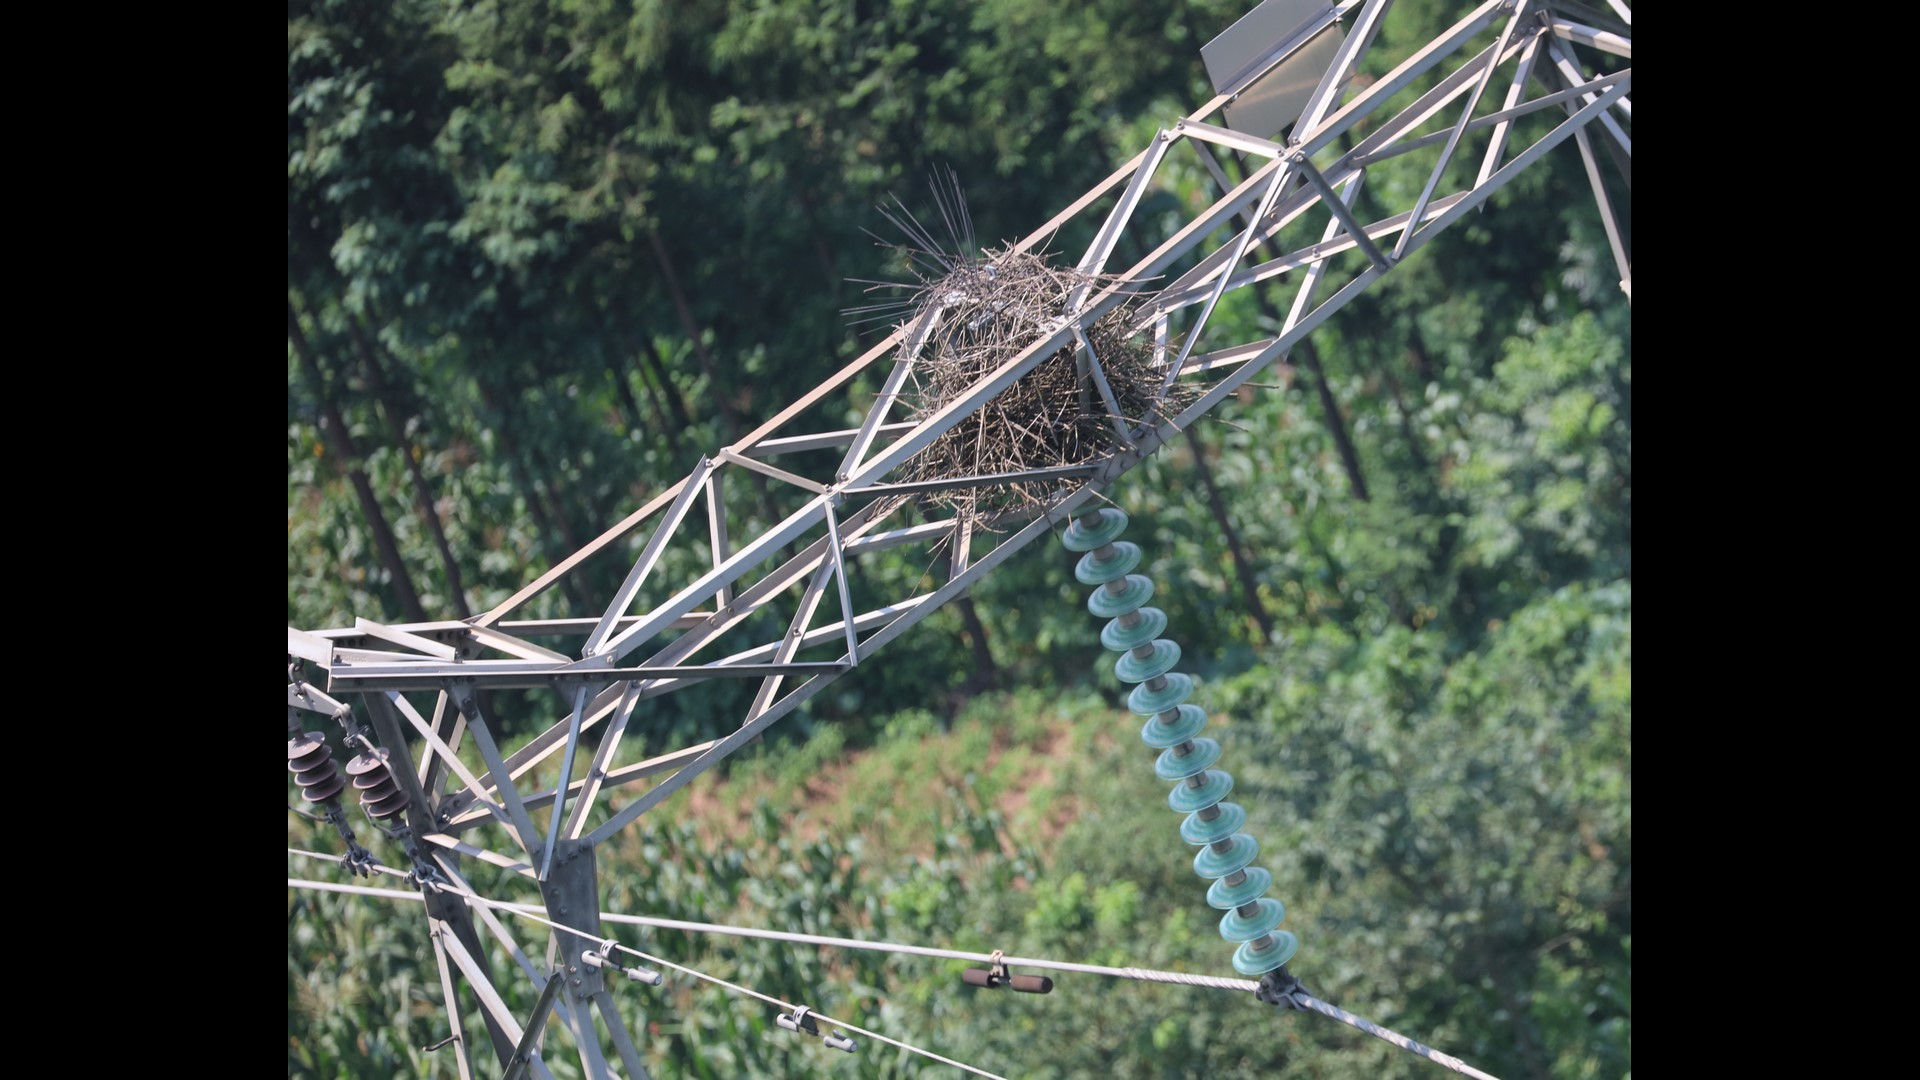niaowo: (864, 249, 1193, 530)
